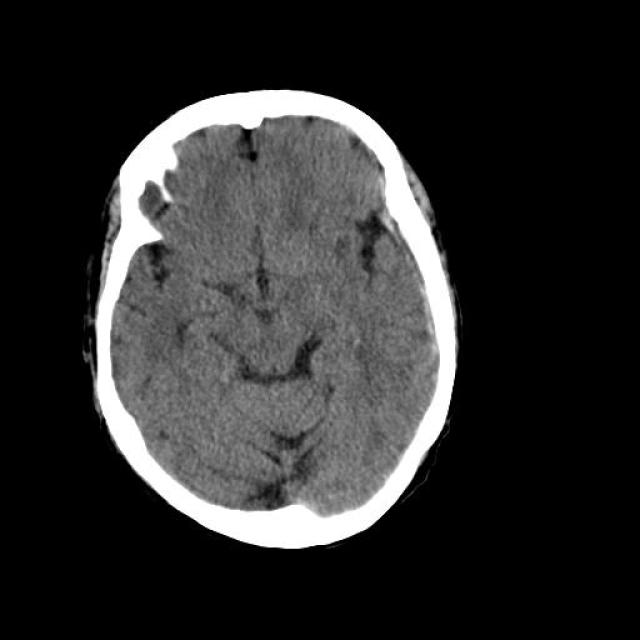Subdural: (382, 199, 480, 369)
